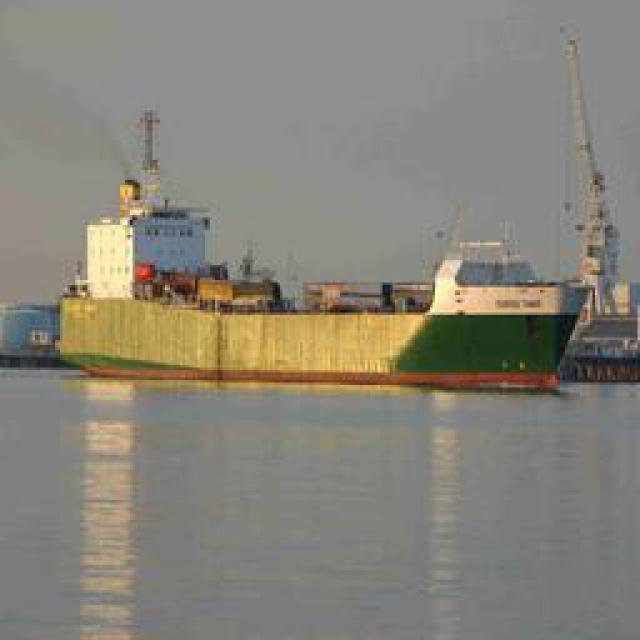Ship: (392, 226, 590, 391)
